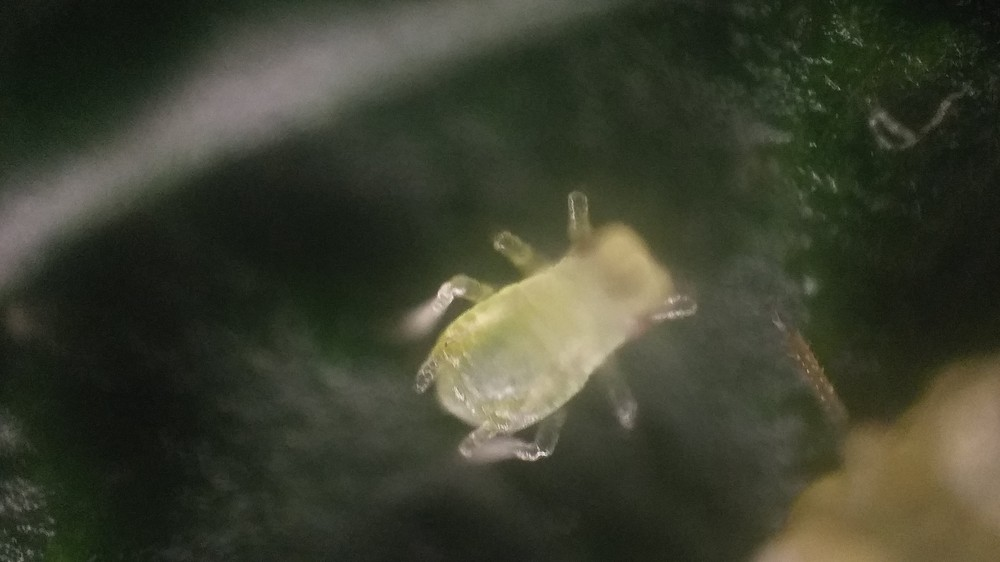Pulgon: (385, 188, 719, 493)
